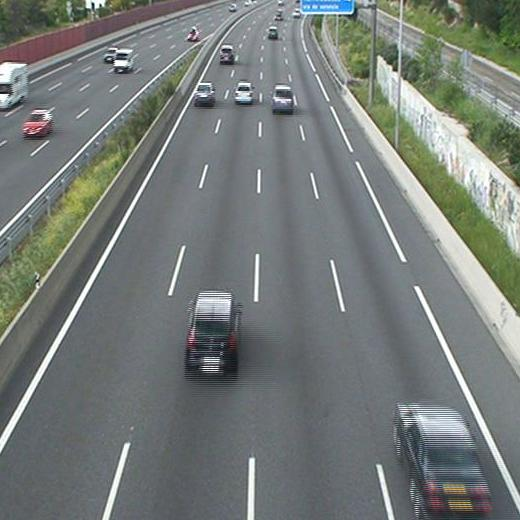car: (393, 402, 493, 517), (184, 289, 243, 380), (271, 83, 294, 115), (234, 81, 256, 105), (194, 82, 215, 107), (219, 44, 234, 65), (268, 27, 278, 40)
